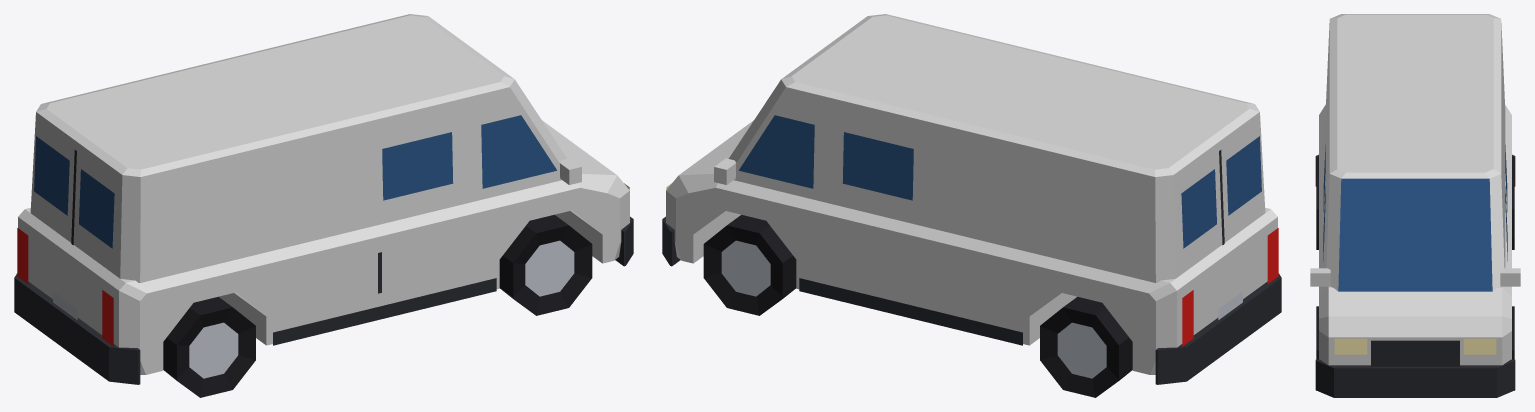
Rendered from van.glb.
3 views of the same model, side by side, from view 1: azimuth 30°, elevation 25°; view 2: azimuth 150°, elevation 25°; view 3: azimuth 270°, elevation 25° (orthographic). The views are drawn at different scales.
Visible parts, largest first — view 1: Body; view 2: Body; view 3: Body.
Boxes of the visible parts, x1,y1,x2,y2 form: Body: [14, 14, 633, 397]; Body: [662, 14, 1281, 397]; Body: [1310, 14, 1520, 397].
Bounding box in the file's own units: 0.54 × 0.227 × 0.218.
